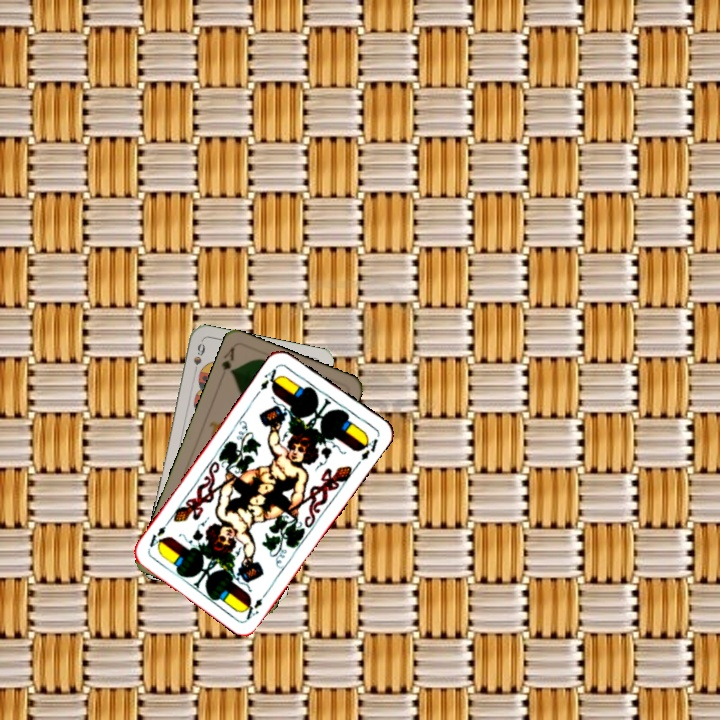EA: (256, 365, 283, 393), (240, 594, 265, 622)
GA: (218, 343, 237, 376)
S9: (189, 339, 208, 370)
